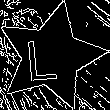L_N: (33, 30, 69, 83)
